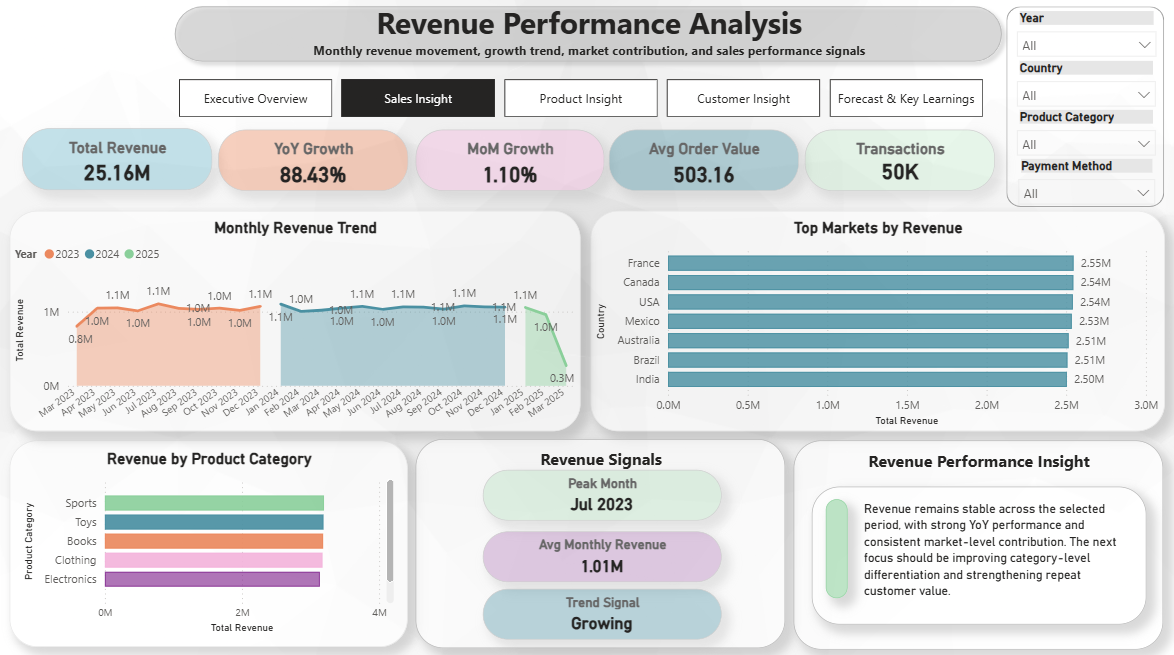

What the dashboard file says about the page in this screenshot:
{"tool":"powerbi","page":{"name":"Sales Insight","canvas":[1280,720],"ordinal":1},"visuals":[{"type":"shape","box":[183.8,0,913.2,77.9],"z":0},{"type":"textbox","box":[315.4,0,651.5,88.5],"z":1000},{"type":"pageNavigator","box":[197,88.6,874.3,41.4],"z":2000},{"type":"clusteredBarChart","title":"Revenue by Product Category","fields":{"Category":["Dim Product.Product Category"],"Y":["Measure Table.Total Revenue"]},"box":[13.3,478.3,431,223.3],"z":3000},{"type":"clusteredBarChart","title":"Top Markets by Revenue","fields":{"Category":["Dim Country.Country"],"Y":["Measure Table.Total Revenue"]},"box":[642.5,230,621.2,238.8],"z":4000},{"type":"lineChart","title":"Monthly Revenue Trend","fields":{"Category":["Dim Date.Month Year"],"Series":["Fact Sales.Year"],"Y":["Measure Table.Total Revenue"]},"box":[13.8,230,617.5,238.8],"z":5000},{"type":"card","title":"Total Revenue","fields":{"Values":["Measure Table.Total Revenue"]},"box":[27.1,141.4,205.7,67.1],"z":6000},{"type":"card","title":"YoY Growth","fields":{"Values":["Measure Table.Revenue YoY Growth %"]},"box":[240,142.5,205.8,66.7],"z":7000},{"type":"card","title":"MoM Growth","fields":{"Values":["Measure Table.Revenue MoM Growth %"]},"box":[452.5,141.7,204.2,66.7],"z":8000},{"type":"card","title":"Avg Order Value","fields":{"Values":["Measure Table.Average Order Value"]},"box":[662.5,141.7,205.8,66.7],"z":9000},{"type":"card","title":"Transactions","fields":{"Values":["Measure Table.Total Transactions"]},"box":[874.2,141.7,205.8,66.7],"z":10000},{"type":"shape","box":[1093.1,9.2,170.8,217],"z":11000},{"type":"slicer","fields":{"Values":["Dim Country.Country"]},"box":[1094.2,65,170,56.7],"z":12000},{"type":"slicer","fields":{"Values":["Dim Date.Year"]},"box":[1093.3,9.2,170.8,61.7],"z":13000},{"type":"slicer","fields":{"Values":["Dim Product.Product Category"]},"box":[1094.2,118,170,55.8],"z":14000},{"type":"slicer","fields":{"Values":["Dim Payment Method.Payment Method"]},"box":[1096.2,171.5,167.7,56.9],"z":15000},{"type":"shape","title":"Revenue Signals","box":[453.3,476.7,400,226.7],"z":16000},{"type":"shape","title":"Revenue Performance Insight","box":[862.7,479.1,400,226.4],"z":17000},{"type":"card","title":"Peak Month","fields":{"Values":["Measure Table.Peak Revenue Month"]},"box":[525,511,258.3,55],"z":18000},{"type":"card","title":"Avg Monthly Revenue","fields":{"Values":["Measure Table.Average Monthly Revenue"]},"box":[525,576.7,258.3,55],"z":19000},{"type":"card","title":"Trend Signal","fields":{"Values":["Measure Table.Revenue Trend Signal"]},"box":[525,640,258.3,55],"z":20000},{"type":"shape","title":"Market Leadership Insight","box":[881.8,528.2,361.8,149.1],"z":21000},{"type":"textbox","box":[933.3,538.3,291.7,138.3],"z":22000},{"type":"shape","title":"Market Leadership Insight","box":[896.7,541.7,23.3,107],"z":23000}]}

Visuals, with their boxes in screenshot pixels (x1, y1, x2, y2), scaled from the page's 1280x720 canvas onto the 1174x655 screenshot:
shape: crop(169, 0, 1006, 71)
textbox: crop(289, 0, 887, 81)
pageNavigator: crop(181, 81, 983, 118)
"Revenue by Product Category" clusteredBarChart: crop(12, 435, 408, 638)
"Top Markets by Revenue" clusteredBarChart: crop(589, 209, 1159, 426)
"Monthly Revenue Trend" lineChart: crop(13, 209, 579, 426)
"Total Revenue" card: crop(25, 129, 214, 190)
"YoY Growth" card: crop(220, 130, 409, 190)
"MoM Growth" card: crop(415, 129, 602, 190)
"Avg Order Value" card: crop(608, 129, 796, 190)
"Transactions" card: crop(802, 129, 991, 190)
shape: crop(1003, 8, 1159, 206)
slicer - Dim Country.Country: crop(1004, 59, 1160, 111)
slicer - Dim Date.Year: crop(1003, 8, 1159, 64)
slicer - Dim Product.Product Category: crop(1004, 107, 1160, 158)
slicer - Dim Payment Method.Payment Method: crop(1005, 156, 1159, 208)
"Revenue Signals" shape: crop(416, 434, 783, 640)
"Revenue Performance Insight" shape: crop(791, 436, 1158, 642)
"Peak Month" card: crop(482, 465, 718, 515)
"Avg Monthly Revenue" card: crop(482, 525, 718, 575)
"Trend Signal" card: crop(482, 582, 718, 632)
"Market Leadership Insight" shape: crop(809, 481, 1141, 616)
textbox: crop(856, 490, 1124, 616)
"Market Leadership Insight" shape: crop(822, 493, 844, 590)
